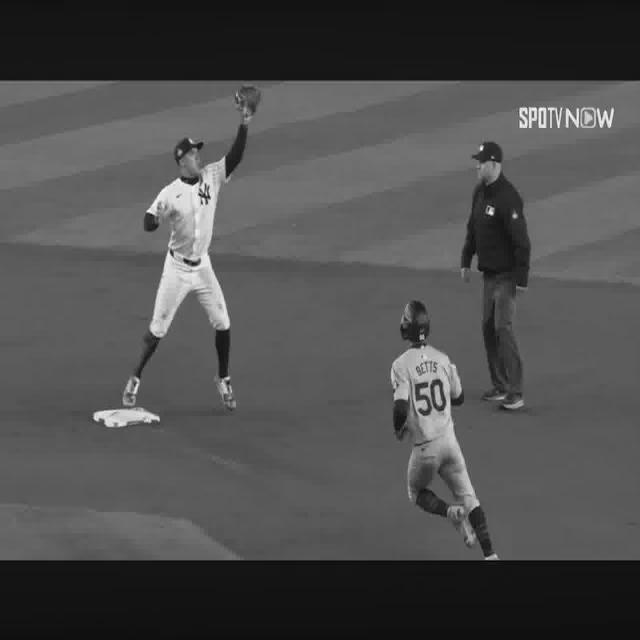base: (92, 407, 160, 428)
baseball_glove: (235, 85, 262, 123)
shoe: (449, 503, 476, 547), (215, 375, 236, 410), (124, 372, 140, 408), (482, 387, 508, 405), (500, 398, 525, 410)
